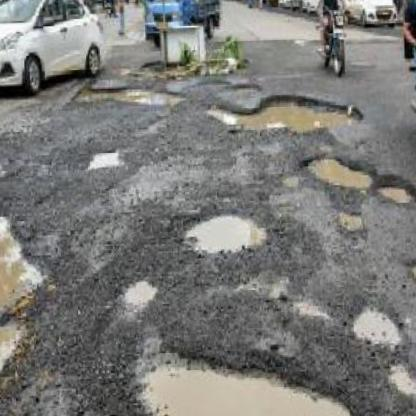pothole: (132, 338, 375, 416), (0, 203, 49, 394), (201, 86, 363, 139), (182, 205, 267, 259), (75, 80, 184, 111), (300, 147, 373, 192), (351, 300, 403, 349), (376, 172, 416, 207), (386, 359, 416, 399), (83, 143, 122, 172), (119, 276, 158, 303), (333, 207, 364, 230), (407, 254, 416, 291)
